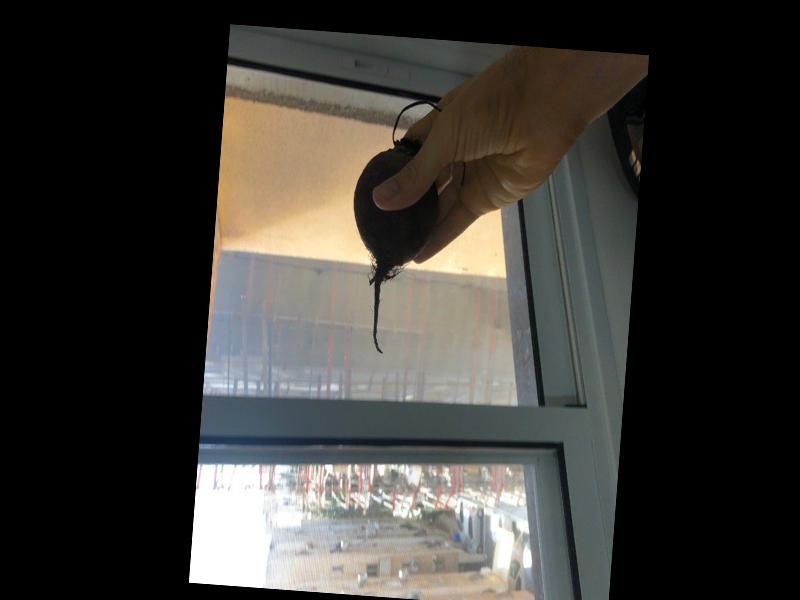Beet: (342, 96, 471, 359)
